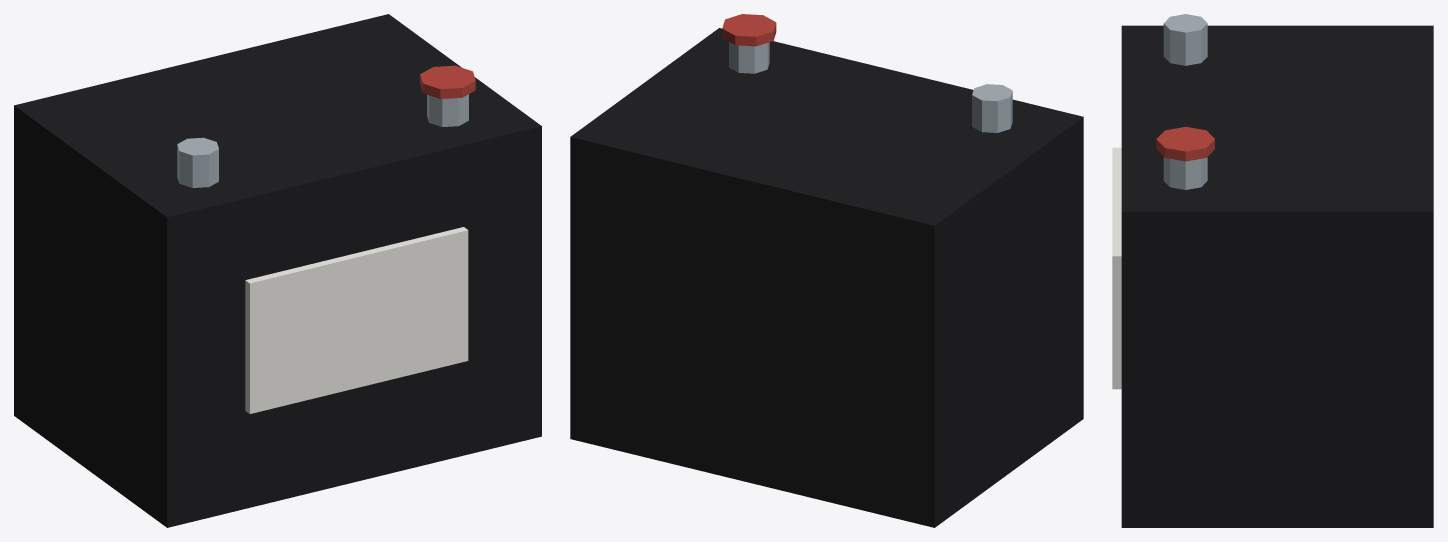
File: GT_CarBattery_01.glb
3 views of the same model, side by side, from view 1: azimuth 30°, elevation 25°; view 2: azimuth 150°, elevation 25°; view 3: azimuth 270°, elevation 25° (orthographic). The views are drawn at different scales.
Parts seen in each view (by area): view 1: GT_CarBattery_01; view 2: GT_CarBattery_01; view 3: GT_CarBattery_01.
Boxes of the visible parts, box(x1,y1,x2,y2) form: GT_CarBattery_01: box(14, 14, 541, 527); GT_CarBattery_01: box(570, 14, 1083, 527); GT_CarBattery_01: box(1112, 14, 1433, 527).
Bounding box in the file's own units: 0.24 × 0.215 × 0.175.
Materials: 1 (1 with a texture image).
